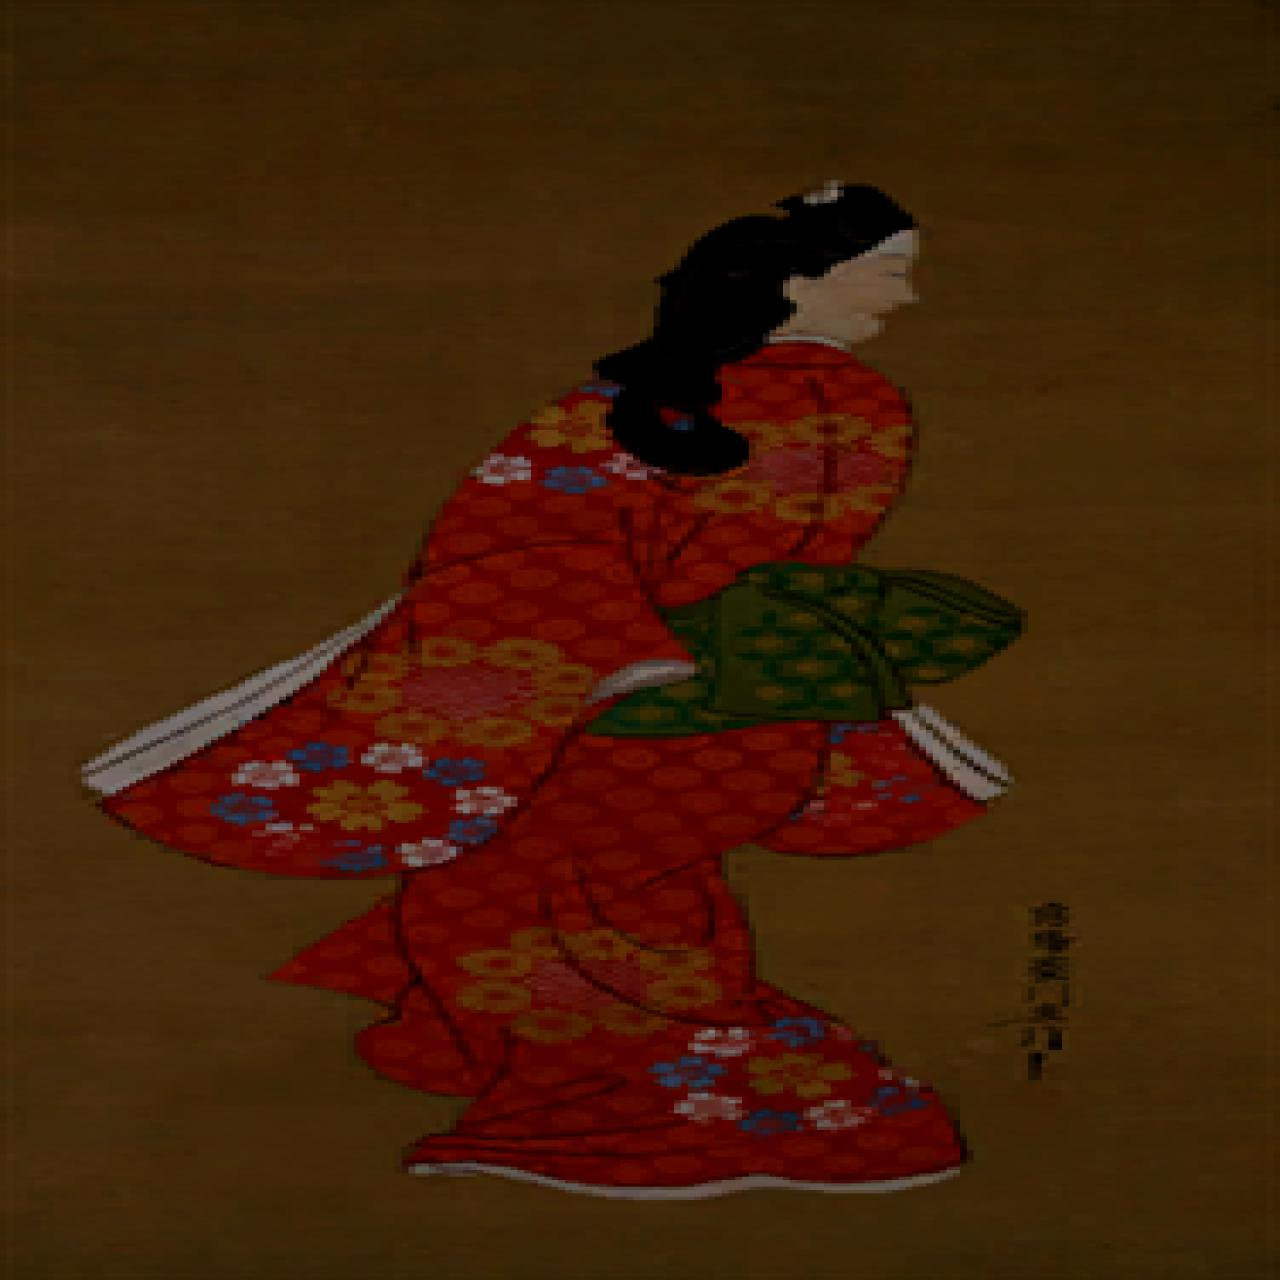MikaeriFake: (1, 1, 1274, 1278)
